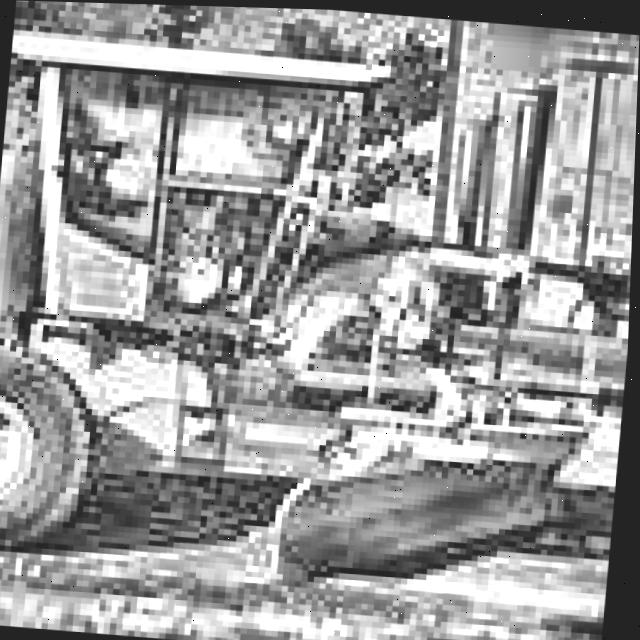buldozerpayloadergrader: (0, 0, 640, 620)
